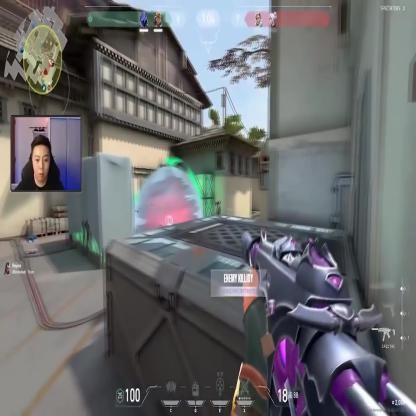enemy: (216, 197, 221, 226)
enemy_head: (216, 198, 220, 204)
